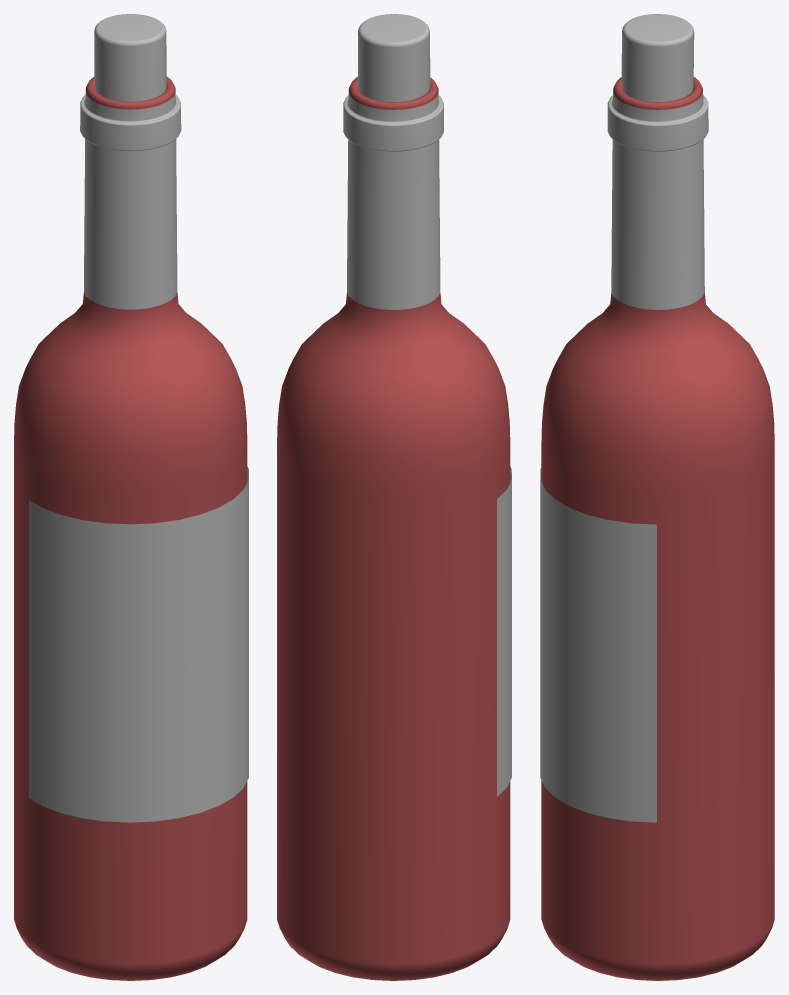
File: WineBottle.fbx
3 renders of one model, left to right at view 1: azimuth 30°, elevation 25°; view 2: azimuth 150°, elevation 25°; view 3: azimuth 270°, elevation 25°, orthographic.
Visible parts, largest first — view 1: WineBottle; view 2: WineBottle; view 3: WineBottle.
Boxes of the visible parts, x1,y1,x2,y2 form: WineBottle: (14, 14, 248, 980); WineBottle: (277, 14, 511, 980); WineBottle: (540, 14, 774, 980).
Bounding box in the file's own units: 2.35 × 10.01 × 2.32.
